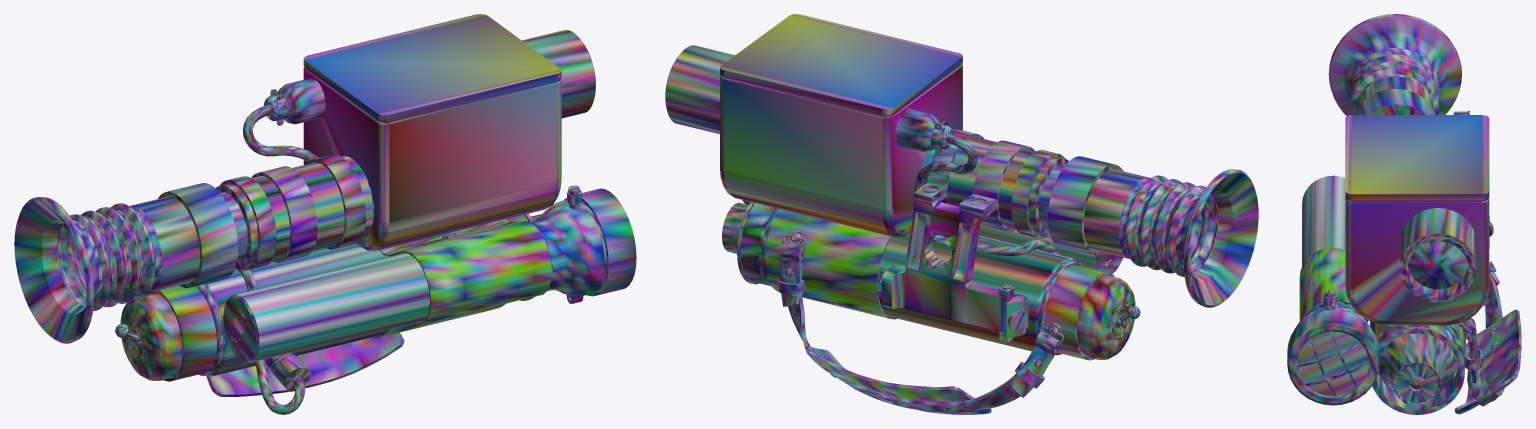
Rendered from Steampunk Ghost Hunting Device.fbx.
The picture shows the model from 3 angles, left to right: view 1: azimuth 30°, elevation 25°; view 2: azimuth 150°, elevation 25°; view 3: azimuth 270°, elevation 25°; orthographic projection. The views are drawn at different scales.
Parts seen in each view (by area): view 1: Scope.LOW.004_GhostScope_0; view 2: Scope.LOW.004_GhostScope_0; view 3: Scope.LOW.004_GhostScope_0.
Part boxes in pixels (x1,y1,x2,y2): Scope.LOW.004_GhostScope_0: [14, 14, 636, 414]; Scope.LOW.004_GhostScope_0: [665, 14, 1258, 414]; Scope.LOW.004_GhostScope_0: [1287, 14, 1521, 414].
Size of the model in its own units: 897 by 501 by 373.
